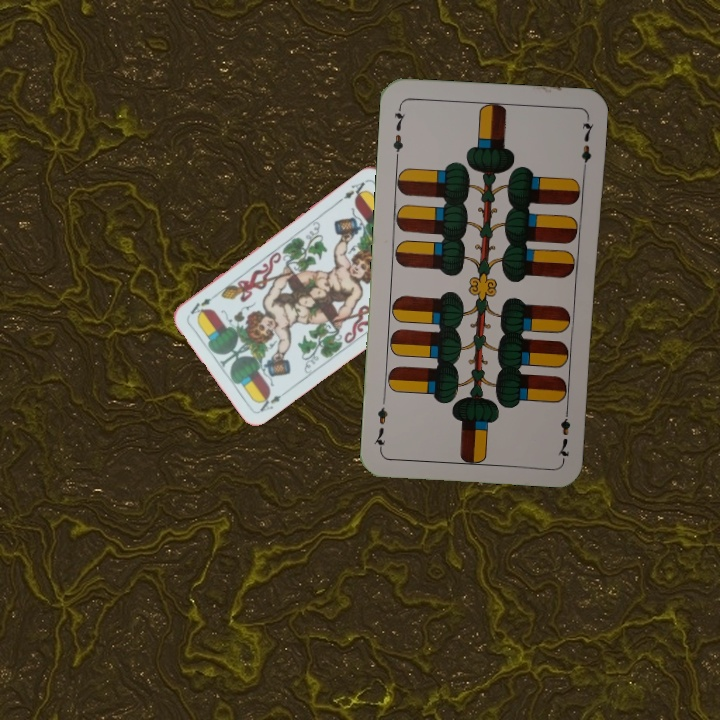E7: (389, 102, 408, 161), (554, 402, 573, 461)
EA: (254, 386, 291, 414), (335, 176, 371, 204)
